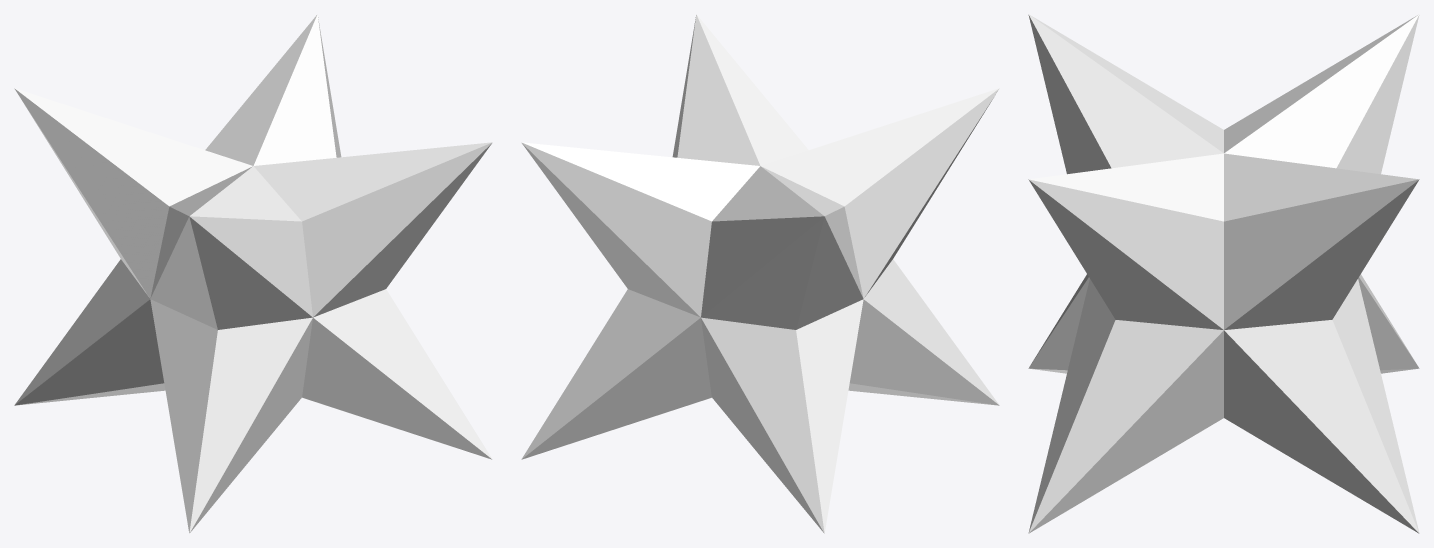
The model's file is great-disdyakis-dodecahedron.gltf.
3 renders of one model, left to right at view 1: azimuth 30°, elevation 25°; view 2: azimuth 150°, elevation 25°; view 3: azimuth 270°, elevation 25°, orthographic. The views are drawn at different scales.
Parts seen in each view (by area): view 1: Great Disdyakisdodecahedron (Dual of 8/3.4.6), WD93, p92; view 2: Great Disdyakisdodecahedron (Dual of 8/3.4.6), WD93, p92; view 3: Great Disdyakisdodecahedron (Dual of 8/3.4.6), WD93, p92.
Boxes of the visible parts, left/top/right/bottom form: Great Disdyakisdodecahedron (Dual of 8/3.4.6), WD93, p92: left=14, top=14, right=492, bottom=533; Great Disdyakisdodecahedron (Dual of 8/3.4.6), WD93, p92: left=521, top=14, right=999, bottom=533; Great Disdyakisdodecahedron (Dual of 8/3.4.6), WD93, p92: left=1028, top=14, right=1419, bottom=533.
Bounding box in the file's own units: 36.89 × 36.89 × 36.89.
Materials: 1 (1 with a texture image).
